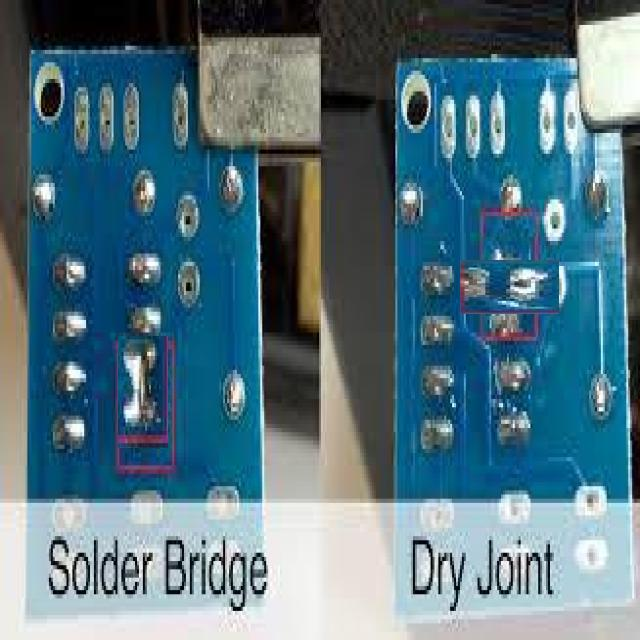Short_circuit: (470, 249, 548, 325), (118, 336, 168, 448)
